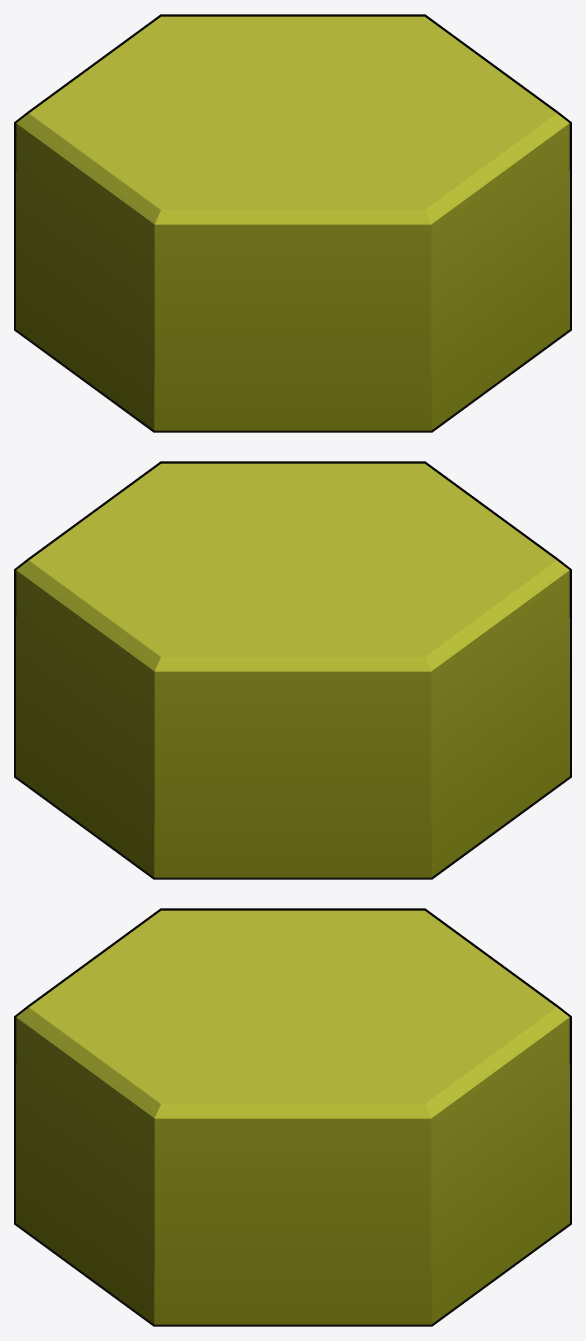
The picture shows the model from 3 angles, top to bottom: view 1: azimuth 30°, elevation 25°; view 2: azimuth 150°, elevation 25°; view 3: azimuth 270°, elevation 25°; orthographic projection.
Visible parts, largest first — view 1: hex_grass; view 2: hex_grass; view 3: hex_grass.
Part boxes in pixels (x1,y1,x2,y2): hex_grass: [14, 14, 571, 432]; hex_grass: [14, 461, 571, 879]; hex_grass: [14, 908, 571, 1326].
Bounding box in the file's own units: 2 × 1 × 2.31.
Materials: 2 (1 with a texture image).
